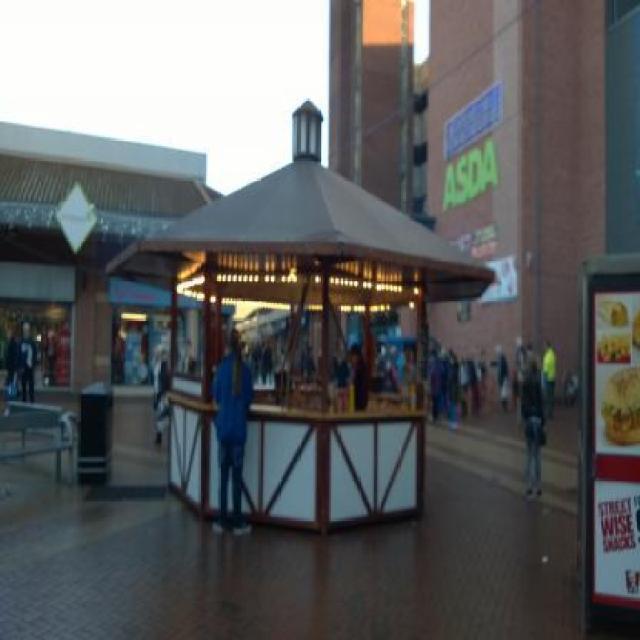Person: (208, 312, 248, 520), (426, 335, 480, 427), (519, 346, 543, 502), (147, 338, 170, 454), (333, 336, 361, 412), (486, 339, 508, 412), (20, 316, 35, 404), (543, 338, 557, 416), (400, 346, 418, 402), (177, 333, 197, 378), (513, 328, 524, 406)
